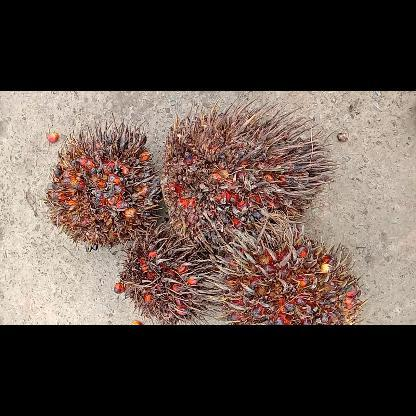Terlalu masak: (157, 93, 345, 253), (204, 218, 368, 324), (43, 113, 165, 250), (117, 216, 223, 324)
